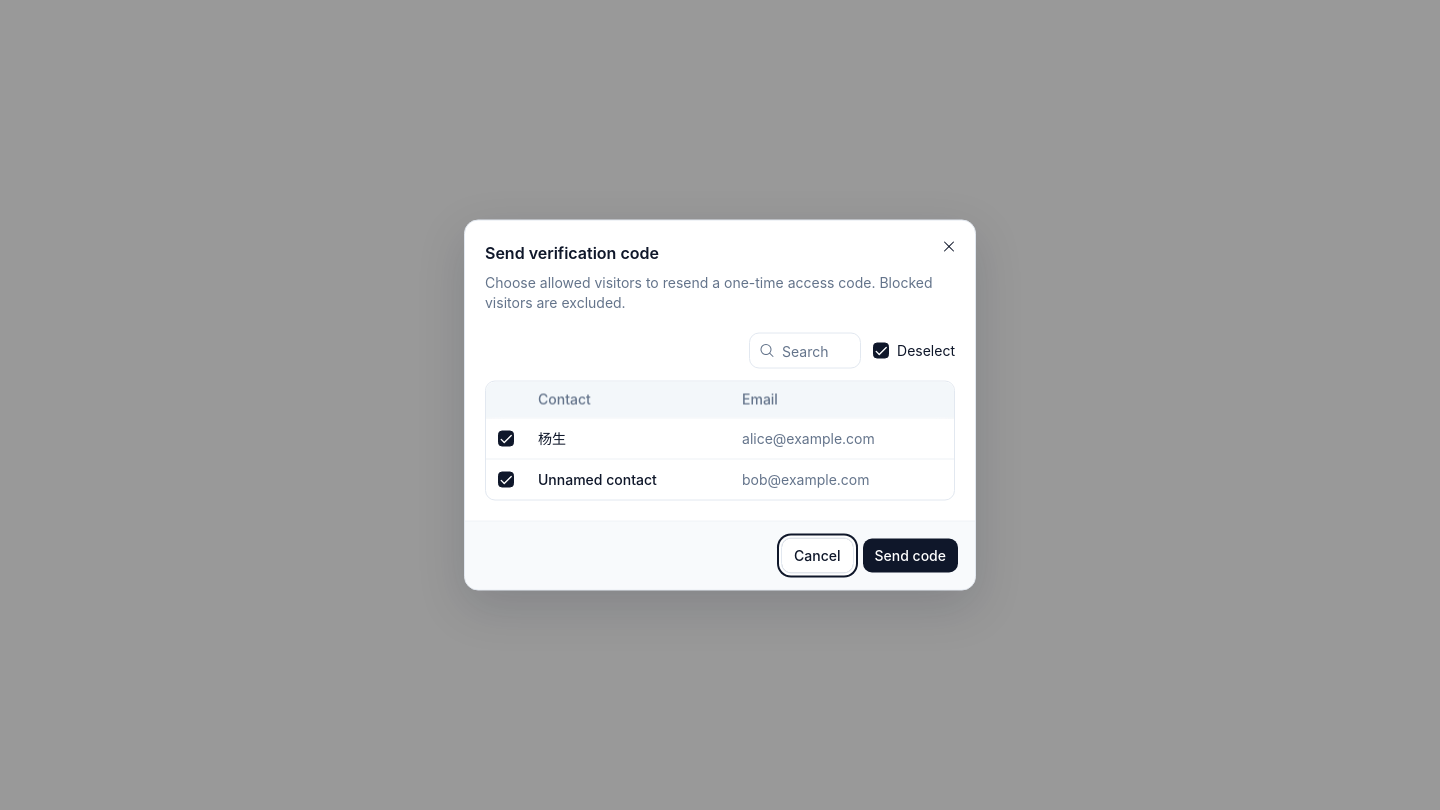
SendVerificationCodeDialog › filters the list by search without expanding the allow scope
Expected: the text "bob@example.com" is shown, [730,459,954,500]
Type "杨" into the field with placeholder "Search" at (805, 350), box [749,332,861,368]
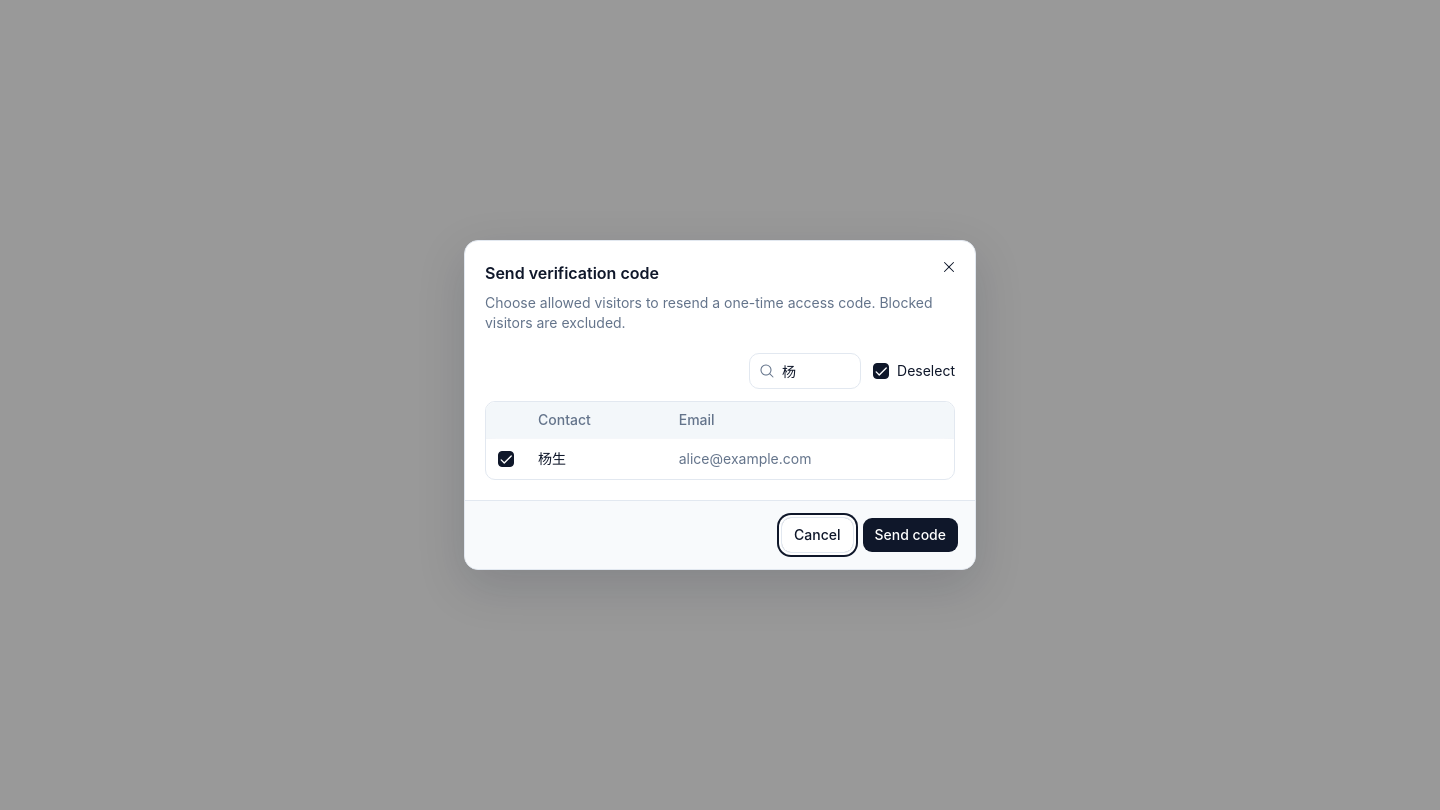
Expected: the text "杨生" is shown, [526,438,667,479]
Expected: the text "bob@example.com" is gone
